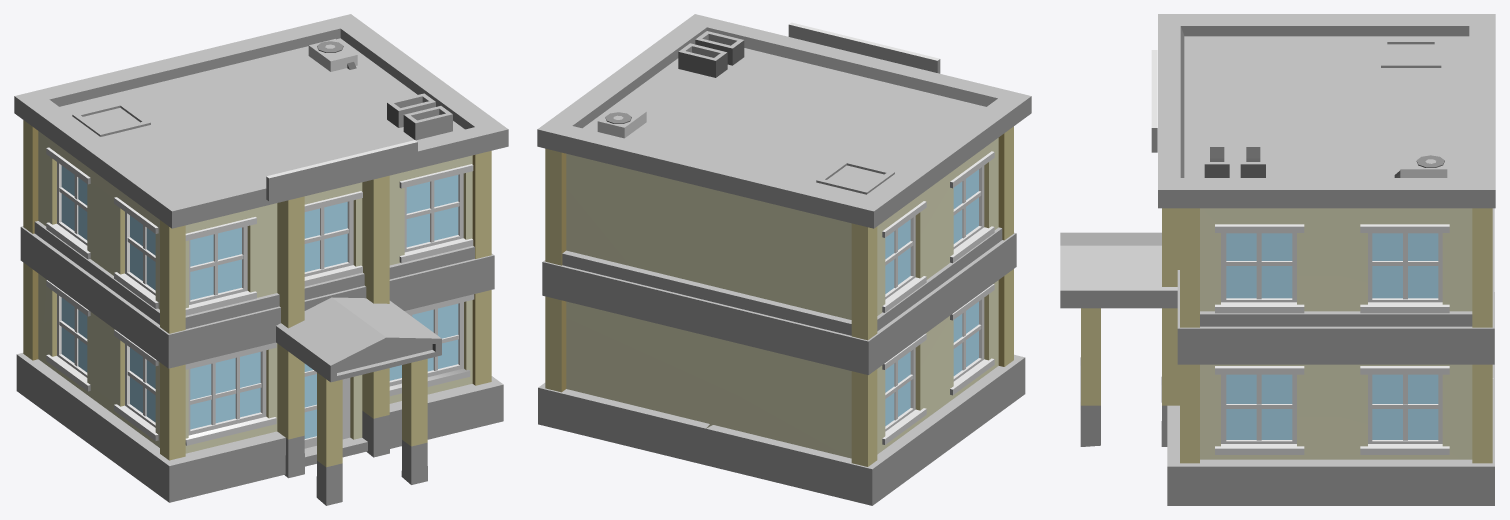
The model's file is bank_008.fbx.
The picture shows the model from 3 angles, left to right: view 1: azimuth 30°, elevation 25°; view 2: azimuth 150°, elevation 25°; view 3: azimuth 270°, elevation 25°; orthographic projection. The views are drawn at different scales.
Visible parts, largest first — view 1: bank_008; view 2: bank_008; view 3: bank_008.
Boxes of the visible parts, x1,y1,x2,y2 form: bank_008: (14, 14, 508, 505); bank_008: (537, 14, 1031, 505); bank_008: (1060, 14, 1495, 505).
Size of the model in its own units: 715 by 627 by 747.
